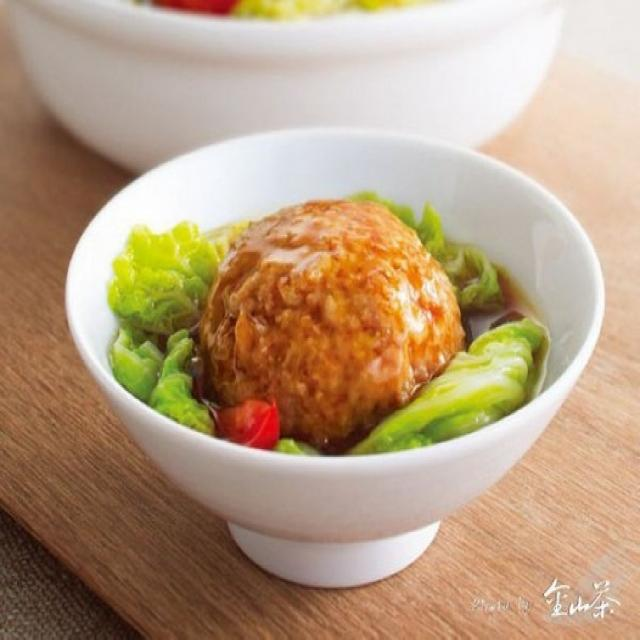Meatball: (195, 186, 464, 463)
